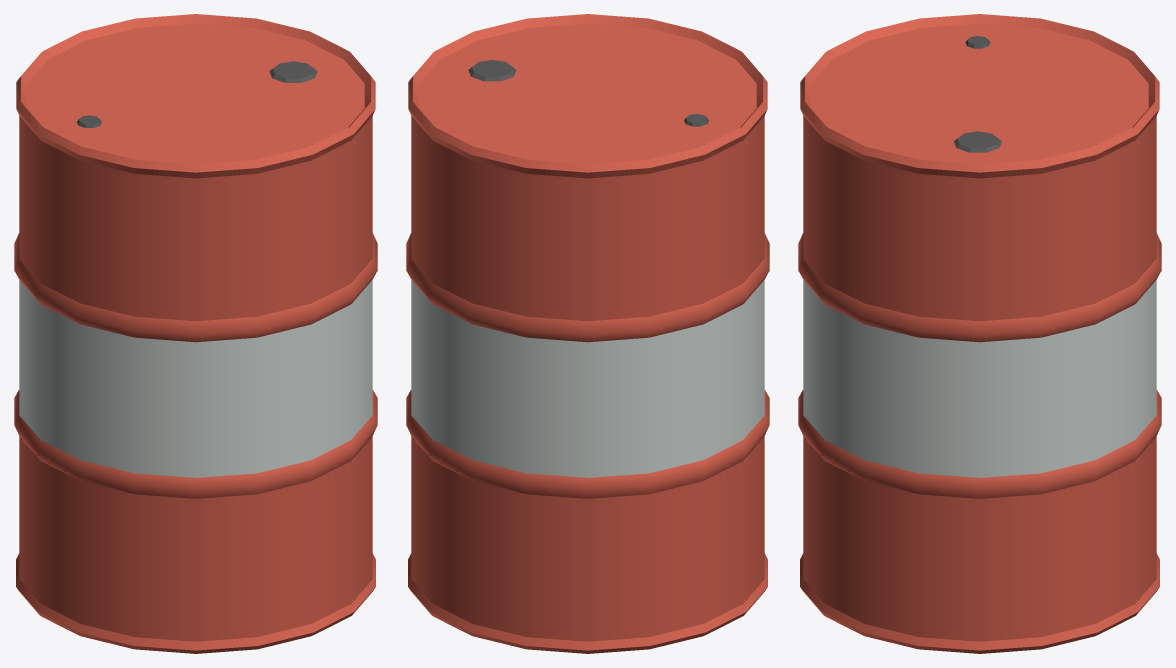
File: SM_Barrel_04.fbx
The picture shows the model from 3 angles, left to right: view 1: azimuth 30°, elevation 25°; view 2: azimuth 150°, elevation 25°; view 3: azimuth 270°, elevation 25°; orthographic projection.
Visible parts, largest first — view 1: SM_Barrel_04; view 2: SM_Barrel_04; view 3: SM_Barrel_04.
Boxes of the visible parts, x1,y1,x2,y2 form: SM_Barrel_04: [14, 14, 377, 653]; SM_Barrel_04: [406, 14, 769, 653]; SM_Barrel_04: [798, 14, 1161, 653].
Size of the model in its own units: 77.39 by 113 by 76.22.
